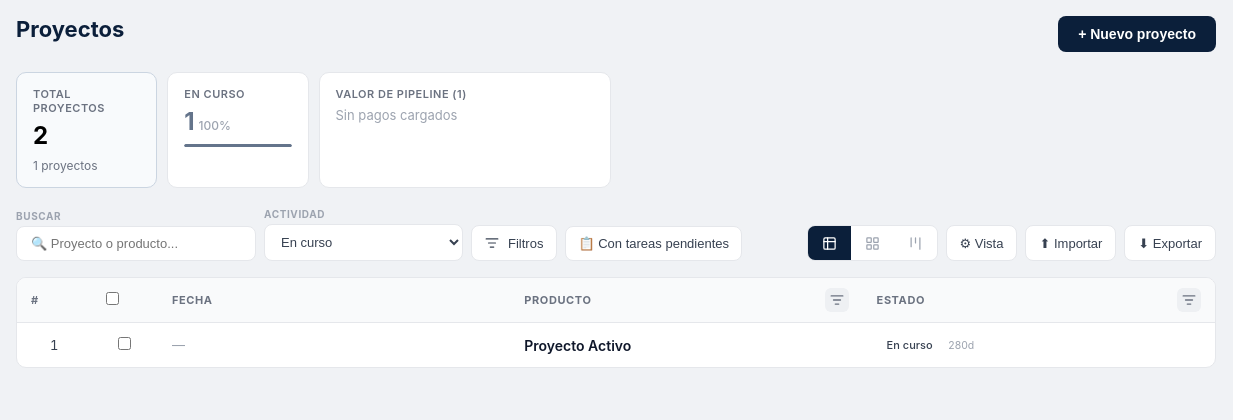
Scenario: Negotiations › el toggle de vista cambia de Tabla a Mosaico y vuelve a mostrar las mismas filas
Expected: the text "Proyecto Activo" is shown, [510,322,863,367]
Expected: the element with class "neg-table-wrapper" is shown, [16,277,1216,368]
Click the button titled "Vista cards". click: click(872, 243)
box: [850,226,894,260]
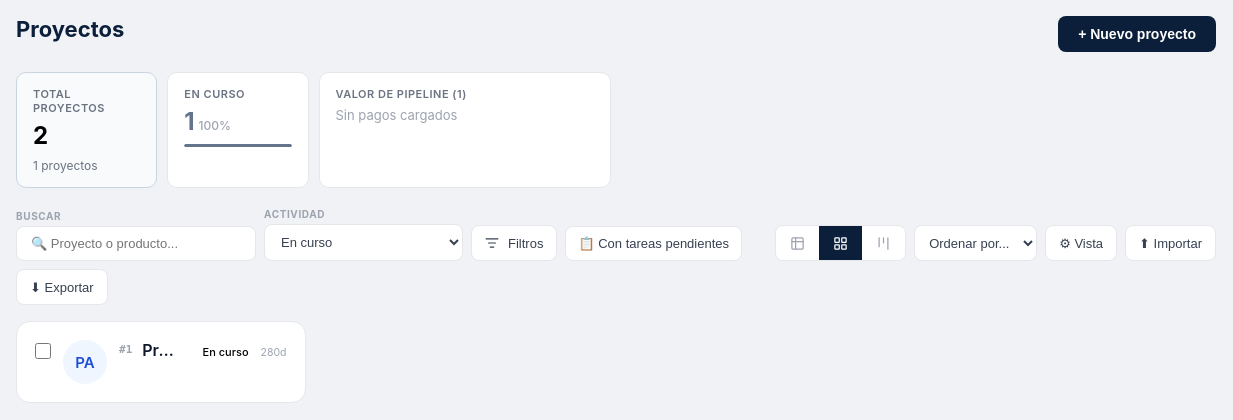
Expected: the text "Proyecto Activo" is shown, [142,340,183,361]
Result: the element with class "card-grid" is shown at [16,321,306,403]
